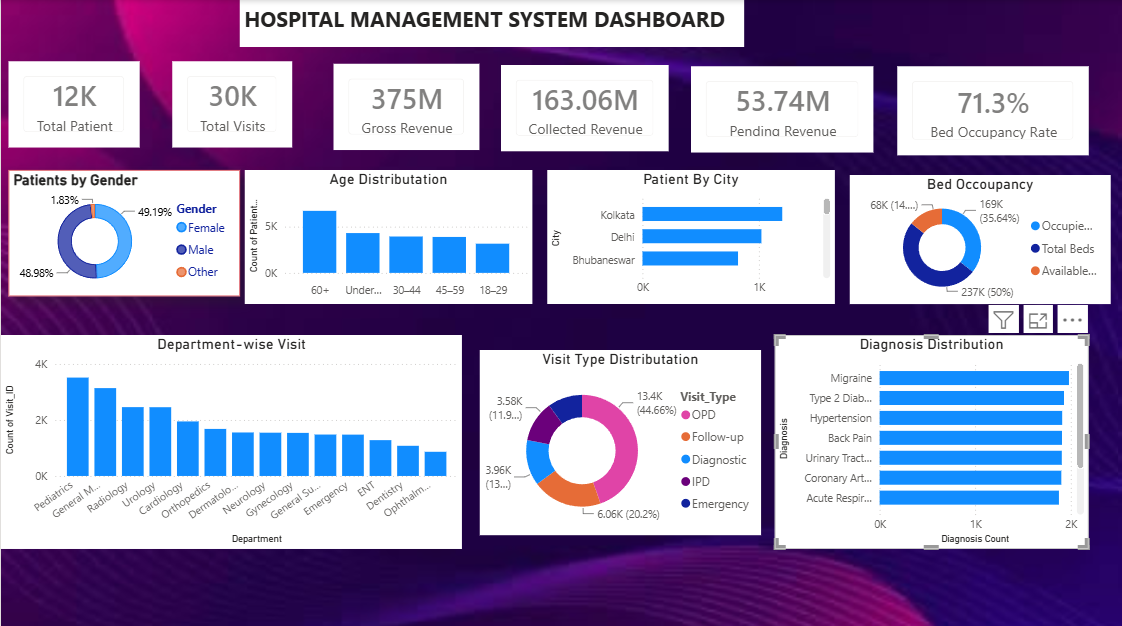

This screenshot's page, from the dashboard's own definition file:
{"tool":"powerbi","page":{"name":"Page 1","canvas":[1280,720],"ordinal":0},"visuals":[{"type":"textbox","box":[271.7,0,575,53.5],"z":0},{"type":"donutChart","title":"Patients by Gender","fields":{"Category":["Patients.Gender"],"Y":["Count(Patients.Patient_ID)"]},"box":[8.6,193.9,263.7,144],"z":1000},{"type":"cardVisual","fields":{"Data":["Bed_Occupancy.Total Patient"]},"box":[8.2,70,149.6,98.8],"z":2000},{"type":"cardVisual","fields":{"Data":["Bed_Occupancy.Total Visits"]},"box":[195.3,69.8,136.8,98.4],"z":3000},{"type":"cardVisual","fields":{"Data":["Bed_Occupancy.Gross Revenue"]},"box":[379.2,72.7,166.8,98.4],"z":4000},{"type":"cardVisual","fields":{"Data":["Bed_Occupancy.Collected Revenue"]},"box":[570.2,74.1,191,98.4],"z":5000},{"type":"cardVisual","fields":{"Data":["Bed_Occupancy.Pending Revenue"]},"box":[786.8,75.5,208.1,98.4],"z":6000},{"type":"clusteredColumnChart","title":"Age Distributation","fields":{"Category":["Patients.Age Group"],"Y":["CountNonNull(Lab_Reports.Patient_ID)"]},"box":[278,193.9,327.8,152.5],"z":8000},{"type":"clusteredBarChart","title":"Patient By City","fields":{"Category":["Patients.City"],"Y":["Count(Lab_Reports.Patient_ID)"]},"box":[622.9,193.9,327.8,152.5],"z":9000},{"type":"clusteredColumnChart","title":"Department-wise Visit","fields":{"Category":["Doctors.Department"],"Y":["CountNonNull(Billing.Visit_ID)"]},"box":[0,382,526,243.7],"z":10000},{"type":"donutChart","title":"Bed Occoupancy","fields":{"Y":["Bed_Occupancy.Occupied Beds","Bed_Occupancy.Total Beds","Bed_Occupancy.Available Beds"]},"box":[967.8,199.6,297.9,146.8],"z":11001},{"type":"donutChart","title":"Visit Type Distributation","fields":{"Category":["Visits.Visit_Type"],"Y":["CountNonNull(Visits.Visit_ID)"]},"box":[545.9,399.1,320.7,211],"z":11002},{"type":"clusteredBarChart","title":"Diagnosis Distribution","fields":{"Y":["Visits.Diagnosis Count"],"Category":["Visits.Diagnosis"]},"box":[882.3,382,357.8,243.7],"z":11003},{"type":"cardVisual","fields":{"Data":["Bed_Occupancy.Bed Occupancy Rate"]},"box":[1022,75.5,218.1,101.2],"z":11004}]}

Visuals, with their boxes in screenshot pixels (x1, y1, x2, y2), scaled from the page's 1280x720 canvas onto the 1122x626 screenshot:
textbox: box=[238, 0, 742, 47]
"Patients by Gender" donutChart: box=[8, 169, 239, 294]
cardVisual - Bed_Occupancy.Total Patient: box=[7, 61, 138, 147]
cardVisual - Bed_Occupancy.Total Visits: box=[171, 61, 291, 146]
cardVisual - Bed_Occupancy.Gross Revenue: box=[332, 63, 479, 149]
cardVisual - Bed_Occupancy.Collected Revenue: box=[500, 64, 667, 150]
cardVisual - Bed_Occupancy.Pending Revenue: box=[690, 66, 872, 151]
"Age Distributation" clusteredColumnChart: box=[244, 169, 531, 301]
"Patient By City" clusteredBarChart: box=[546, 169, 833, 301]
"Department-wise Visit" clusteredColumnChart: box=[0, 332, 461, 544]
"Bed Occoupancy" donutChart: box=[848, 174, 1109, 301]
"Visit Type Distributation" donutChart: box=[479, 347, 760, 530]
"Diagnosis Distribution" clusteredBarChart: box=[773, 332, 1087, 544]
cardVisual - Bed_Occupancy.Bed Occupancy Rate: box=[896, 66, 1087, 154]
